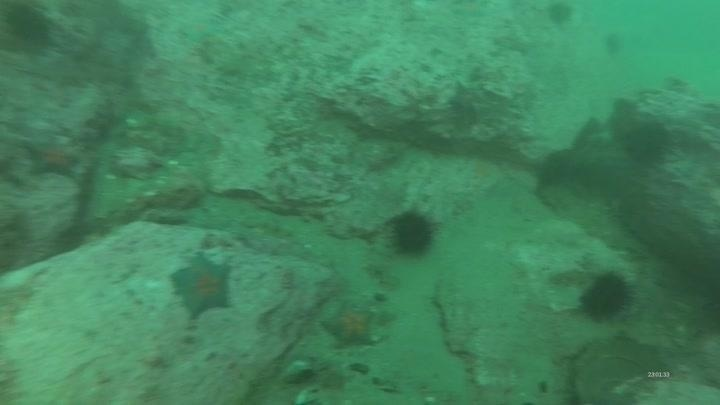echinus: (577, 269, 635, 324), (387, 208, 439, 259), (2, 2, 54, 52), (621, 118, 673, 167), (544, 1, 577, 29), (601, 30, 626, 58)
starfish: (168, 251, 236, 321), (320, 300, 379, 350), (20, 136, 83, 181), (445, 78, 495, 126), (179, 15, 222, 44)
